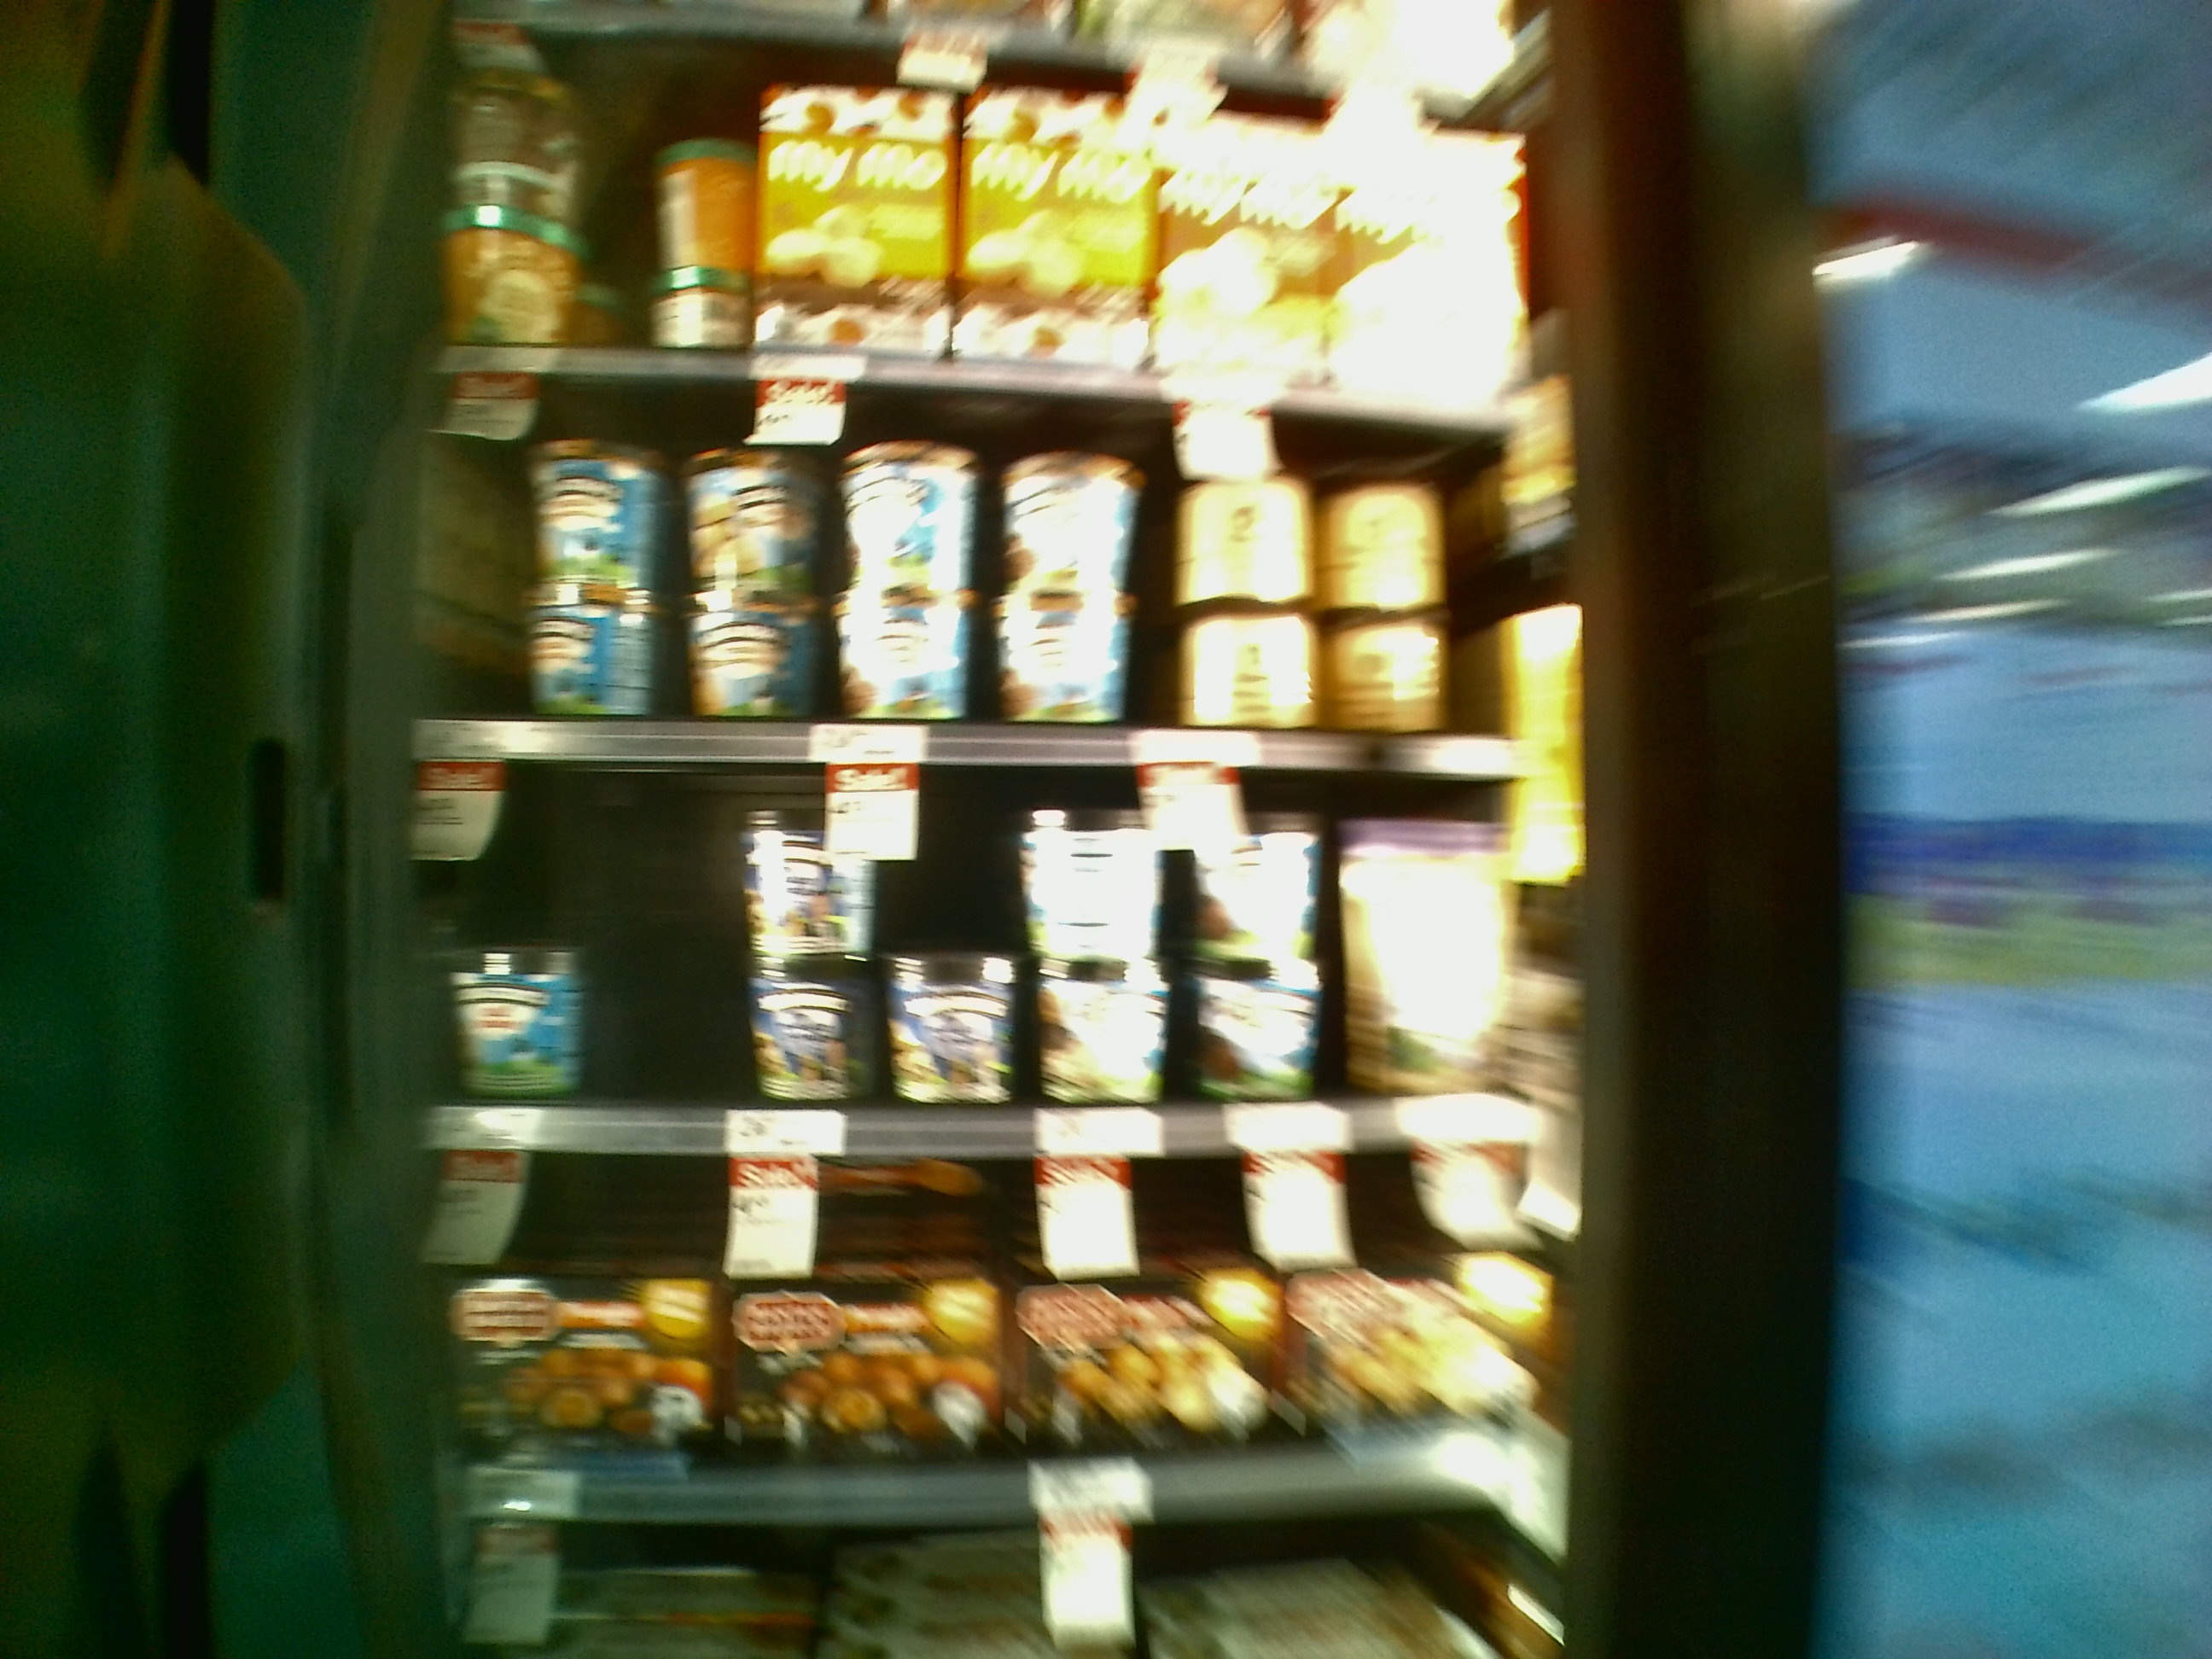shelf: (388, 355, 1608, 777), (347, 1129, 1615, 1500), (359, 770, 1609, 1141)
